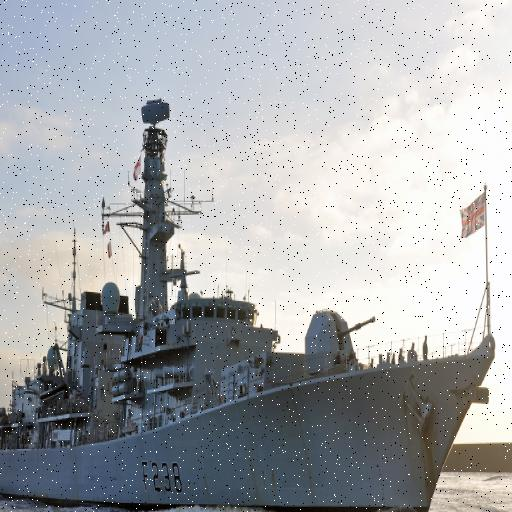Fragata: (1, 88, 500, 512)
